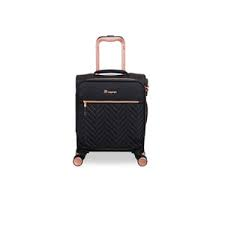suitcase: (70, 36, 151, 166)
